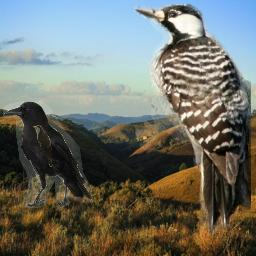Crow: (3, 101, 93, 208)
Cuckoo: (32, 125, 53, 167)
Woodpecker: (134, 4, 251, 236)
